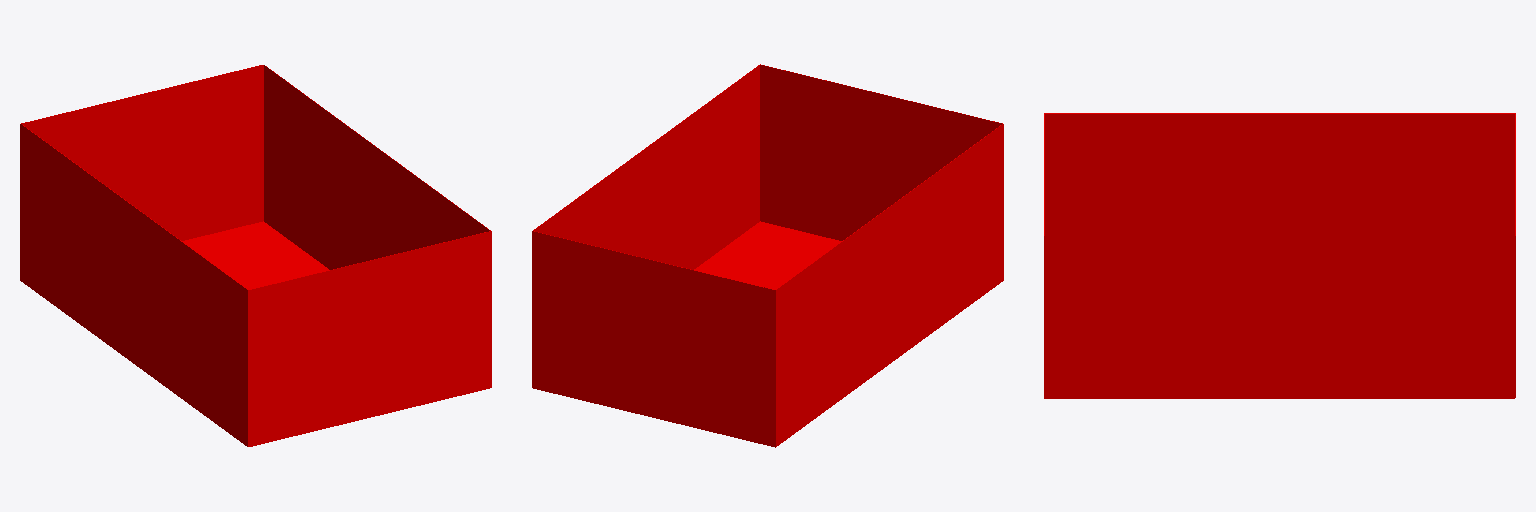
The robot description file, URDF, robot "square.urdf":
<?xml version="1.0" ?>
<robot name="square.urdf">
  <link name="baseLink">
    <contact>
      <lateral_friction value="1.0"/>
      <inertia_scaling value="3.0"/>
    </contact>
    <inertial>
      <origin rpy="0 0 0" xyz="0 0 0"/>
       <mass value=".1"/>
       <inertia ixx="1" ixy="0" ixz="0" iyy="1" iyz="0" izz="1"/>
    </inertial>
    <visual>
      <origin rpy="0 0 0" xyz="0 0 0"/>
      <geometry>
        <mesh filename="6.stl" scale="1 1 1" />
      </geometry>
      <material name="red">
        <color rgba="1 0 0 1"/>
      </material>
    </visual>
    <collision>
      <origin rpy="0 0 0" xyz="0 0 0"/>
      <geometry>
        <mesh filename="6_convex.obj" scale="1 1 1" />
      </geometry>
    </collision>
  </link>
</robot>

--- What the picture shows (computed from the rendered views, not written in the file) ---
3 views of the same robot in one strip: view 1: azimuth 30°, elevation 25°; view 2: azimuth 150°, elevation 25°; view 3: azimuth 270°, elevation 25° (orthographic).
Robot: square.urdf — 1 links, 0 joints (none); root link baseLink; default pose: every joint at zero.
Visible links, largest first — view 1: baseLink; view 2: baseLink; view 3: baseLink.
Boxes of the visible links, <box> form: baseLink: <box>20,65,491,446</box>; baseLink: <box>532,64,1003,447</box>; baseLink: <box>1044,113,1515,398</box>.
Size in the robot's own frame: 0.5387 by 0.8732 by 0.3324 metres.
1 mesh visuals loaded from 1 distinct referenced files (1 binary STL).